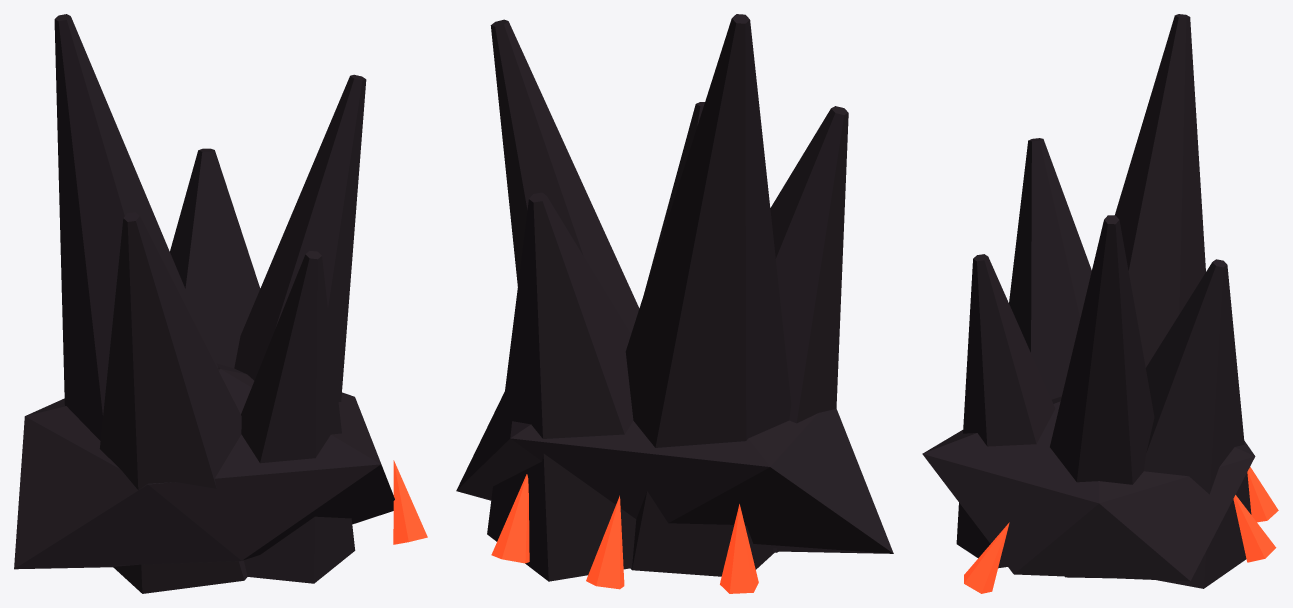
File: AbyssRock.glb
The picture shows the model from 3 angles, left to right: view 1: azimuth 30°, elevation 25°; view 2: azimuth 150°, elevation 25°; view 3: azimuth 270°, elevation 25°; orthographic projection. The views are drawn at different scales.
Parts seen in each view (by area): view 1: AbyssRock, AbyssGlow; view 2: AbyssRock, AbyssGlow; view 3: AbyssRock, AbyssGlow.
Part boxes in pixels (box(x1,y1,x2,y2)): AbyssRock: box(14, 14, 394, 593); AbyssGlow: box(393, 460, 427, 544); AbyssRock: box(456, 14, 893, 581); AbyssGlow: box(491, 474, 758, 593); AbyssRock: box(922, 14, 1255, 588); AbyssGlow: box(964, 467, 1278, 593).
Bounding box in the file's own units: 3.95 × 5.75 × 3.7.
